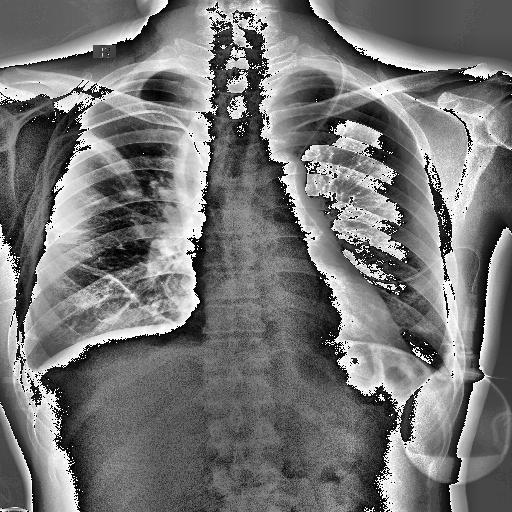0- Aortic enlargement: (246, 150, 304, 197), (272, 152, 306, 182)
10- Pleural effusion: (428, 342, 460, 389), (19, 350, 48, 390), (18, 358, 42, 381), (24, 362, 39, 380)
11- Pleural thickening: (428, 342, 460, 389), (19, 350, 48, 390), (18, 358, 42, 381), (24, 362, 39, 380)
13- Pulmonary fibrosis: (72, 264, 180, 326), (72, 260, 166, 322), (84, 264, 171, 320), (407, 322, 434, 334), (52, 240, 90, 246), (56, 226, 86, 233)
7- Lung Opacity: (72, 260, 166, 322)
9- Other lesion: (58, 110, 143, 194), (178, 111, 216, 265), (38, 220, 94, 245)
